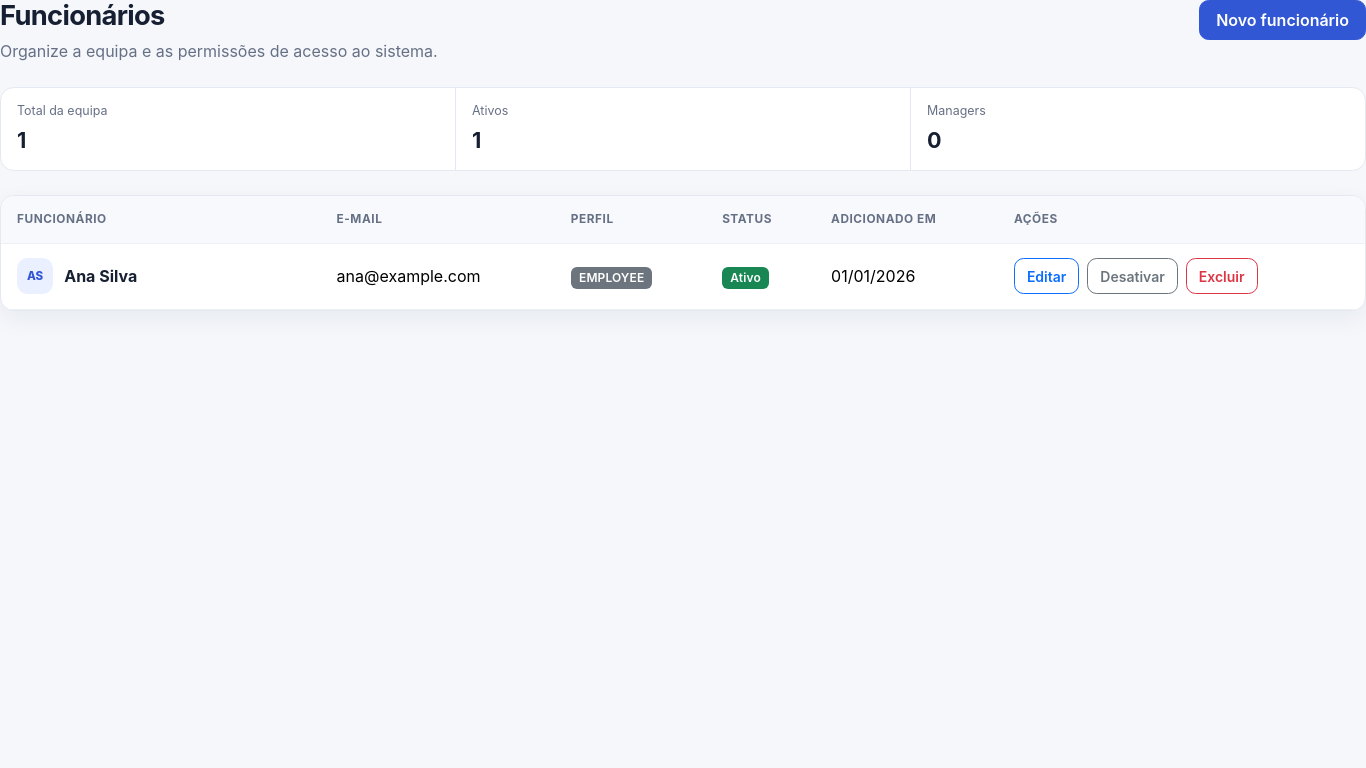
Test: EmployeesPage › creates an employee through the form and reloads the list
Expected: the table is shown, [1,196,1365,310]
Click the button "Novo funcionário".
click(1283, 20)  # box [1199,0,1365,40]
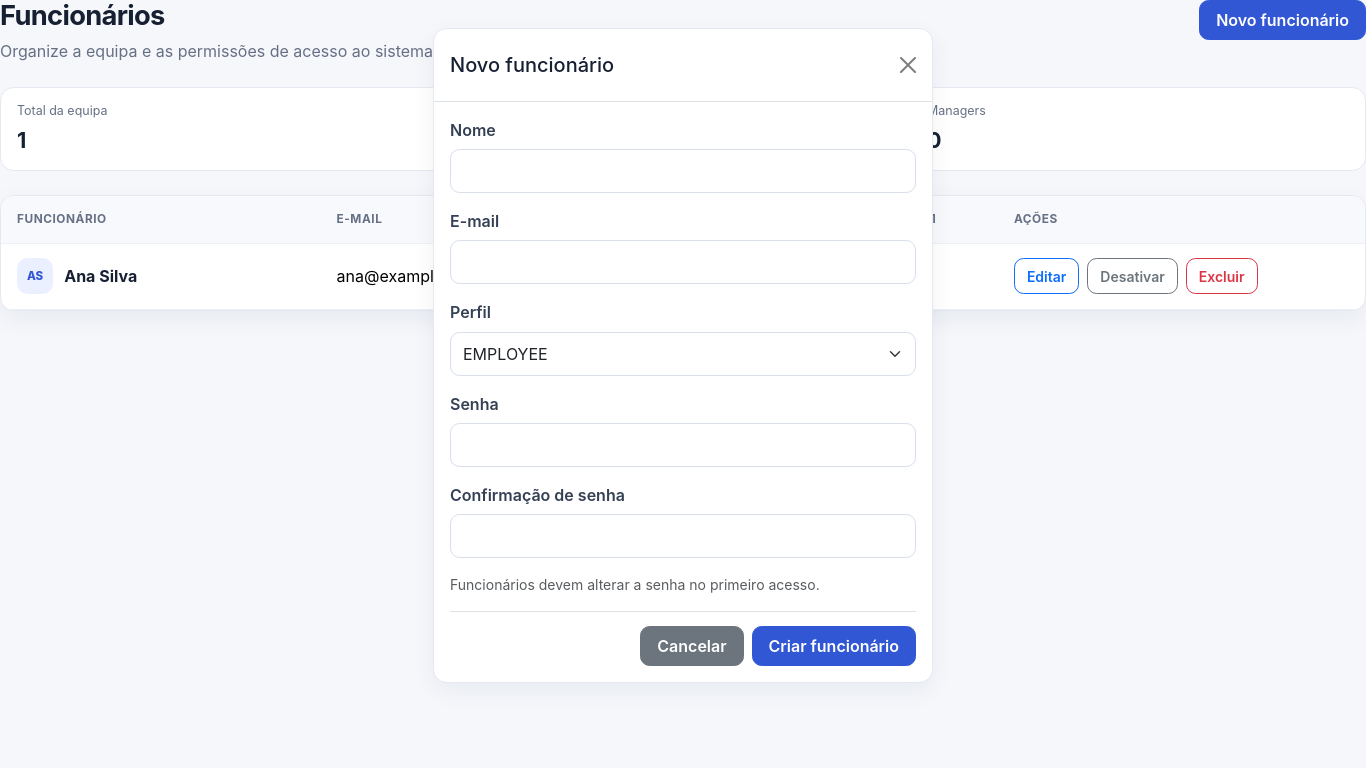
Type "Bruno Lima" into the field labelled "Nome".
click(683, 171); type("Bruno Lima")  # box [450,149,916,193]
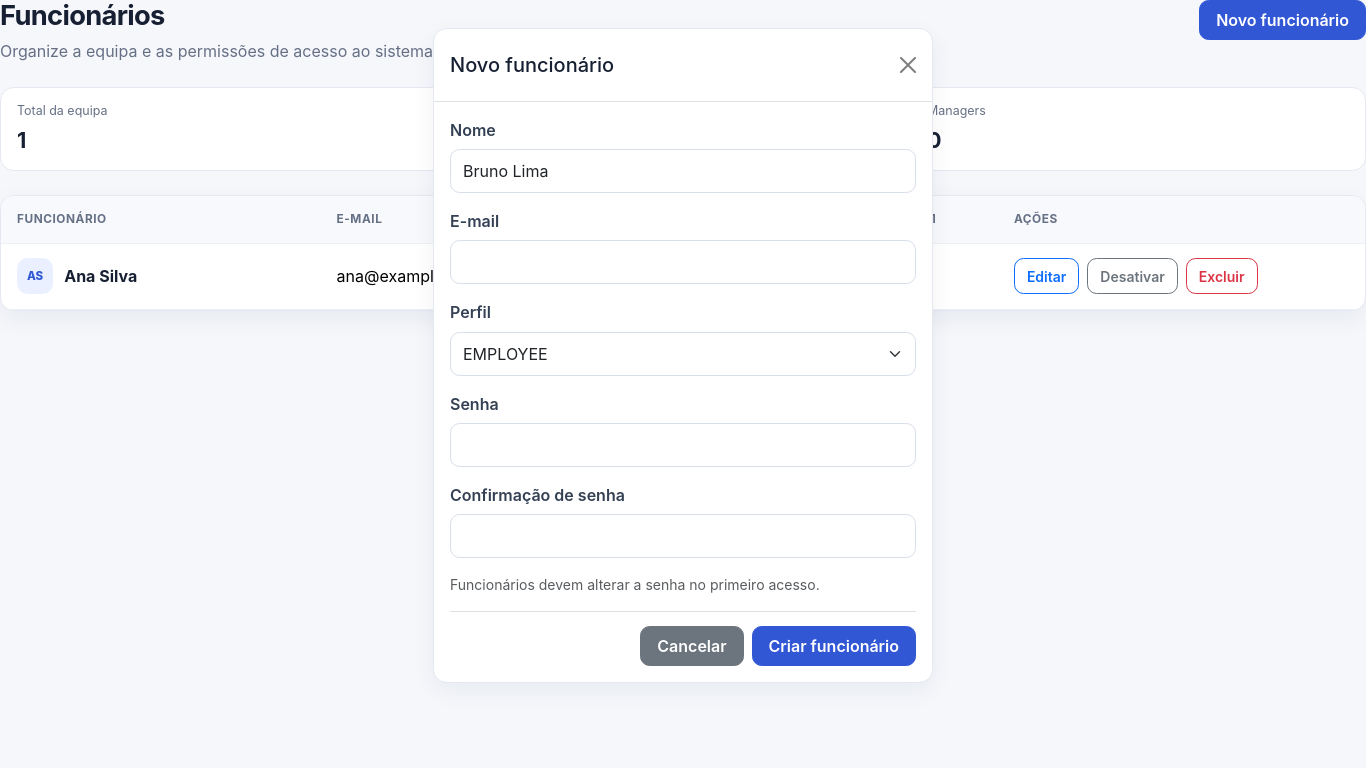
Type "bruno@example.com" into the field labelled "E-mail".
click(683, 262); type("bruno@example.com")  # box [450,240,916,284]
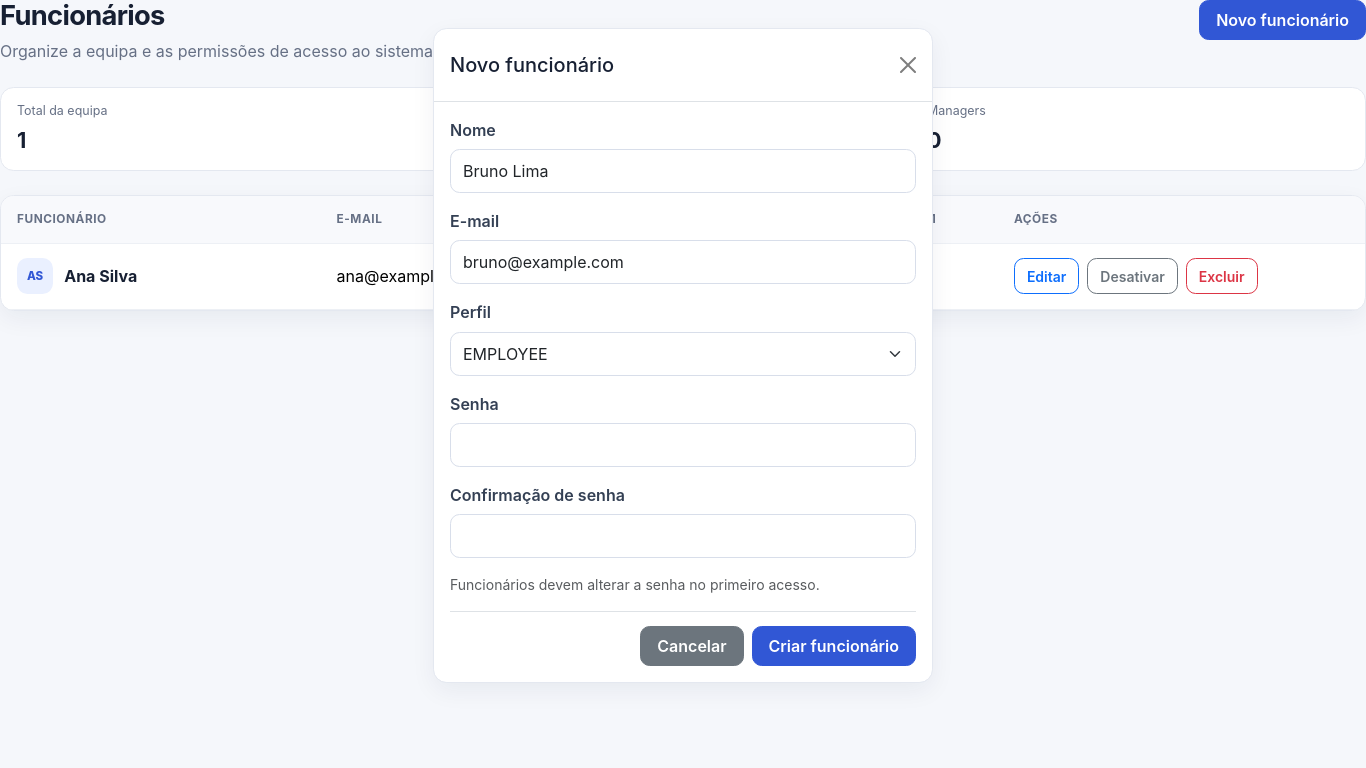
Type "secret123" into the password field labelled "Senha".
click(683, 445); type("secret123")  # box [450,423,916,467]
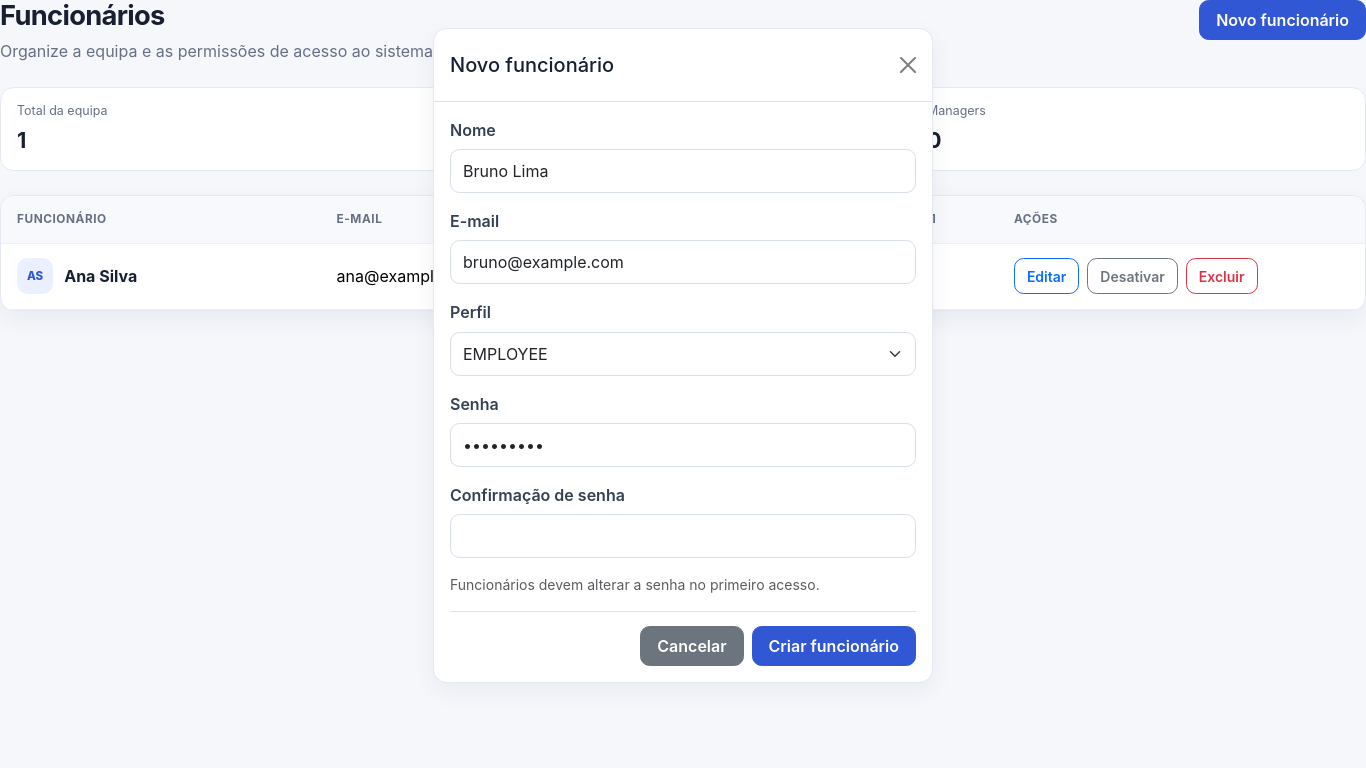
Type "secret123" into the password field labelled "Confirmação de senha".
click(683, 536); type("secret123")  # box [450,514,916,558]
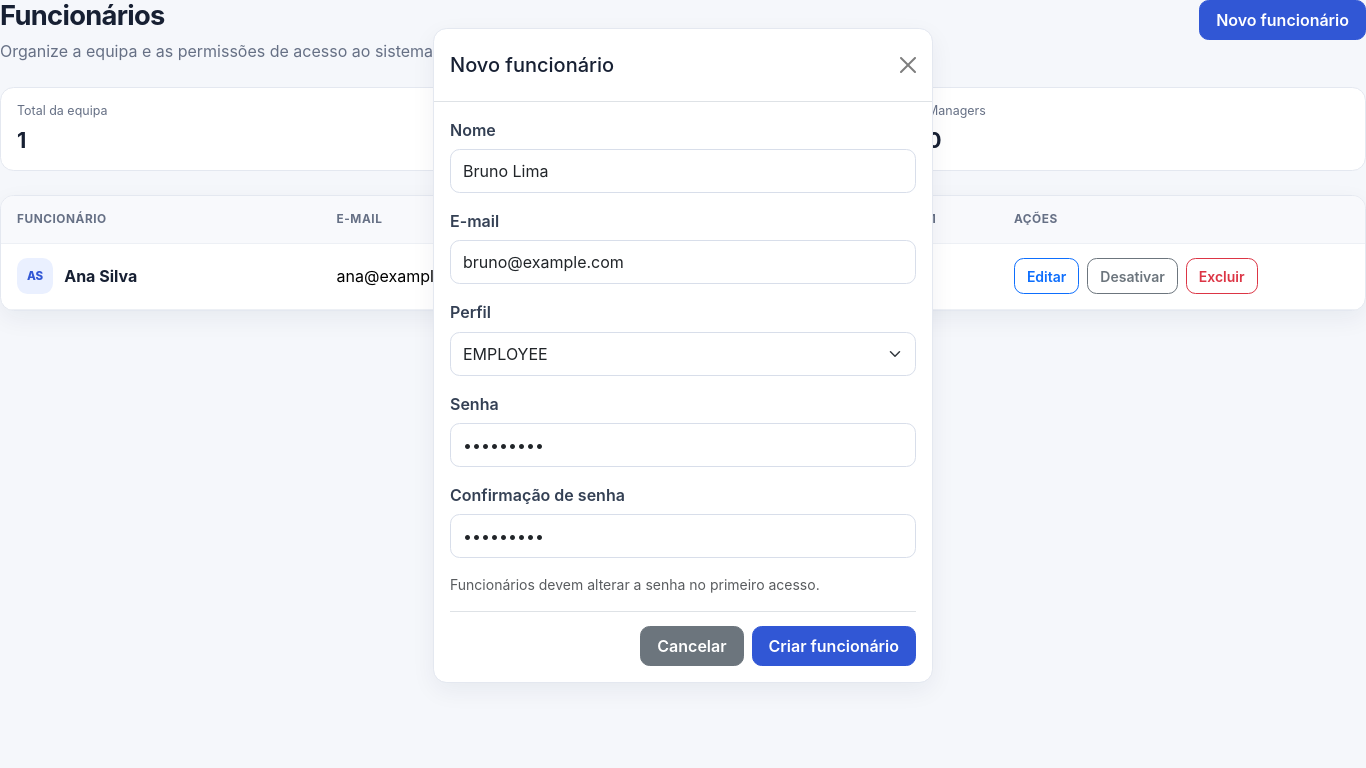
Click the button "Criar funcionário".
click(834, 646)  # box [752,626,916,666]
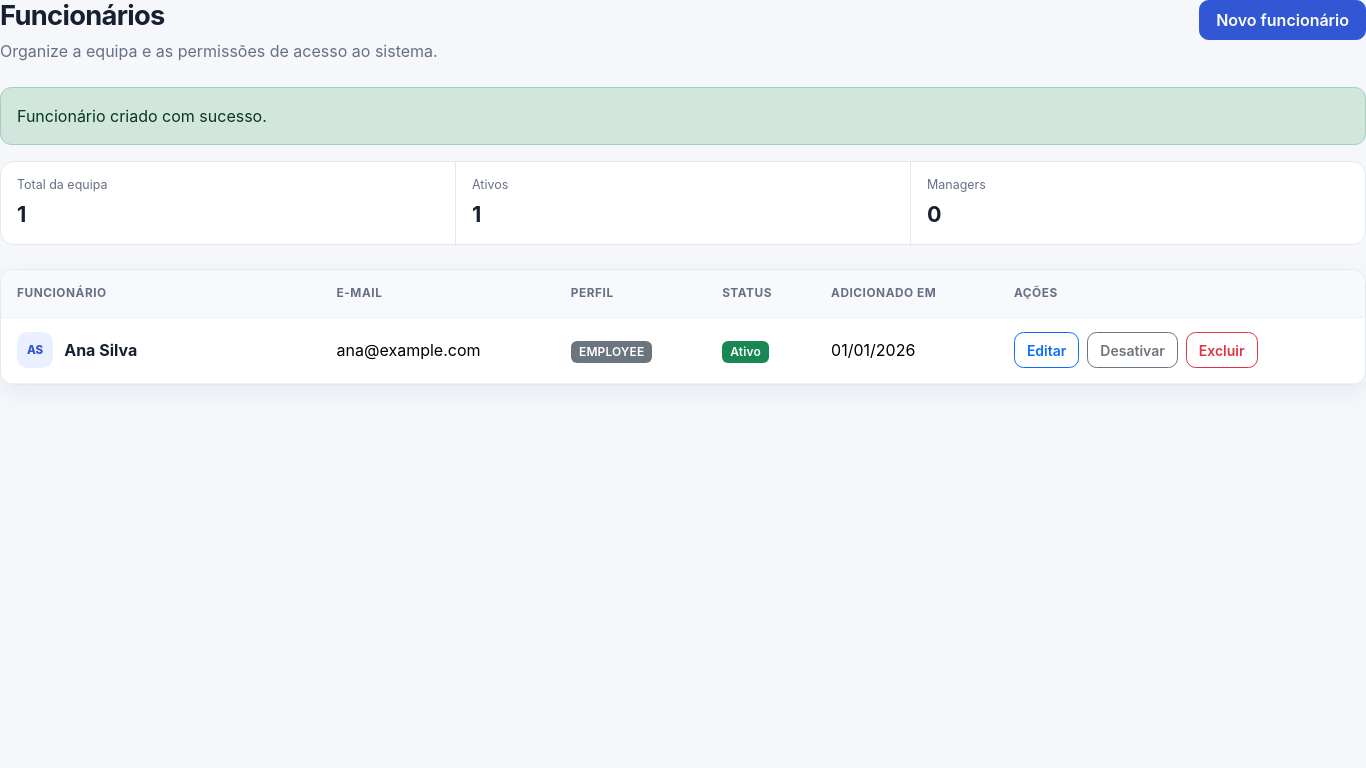
Expected: the text "Funcionário criado com sucesso." is shown, [0,87,1365,145]
Expected: the dialog is gone
